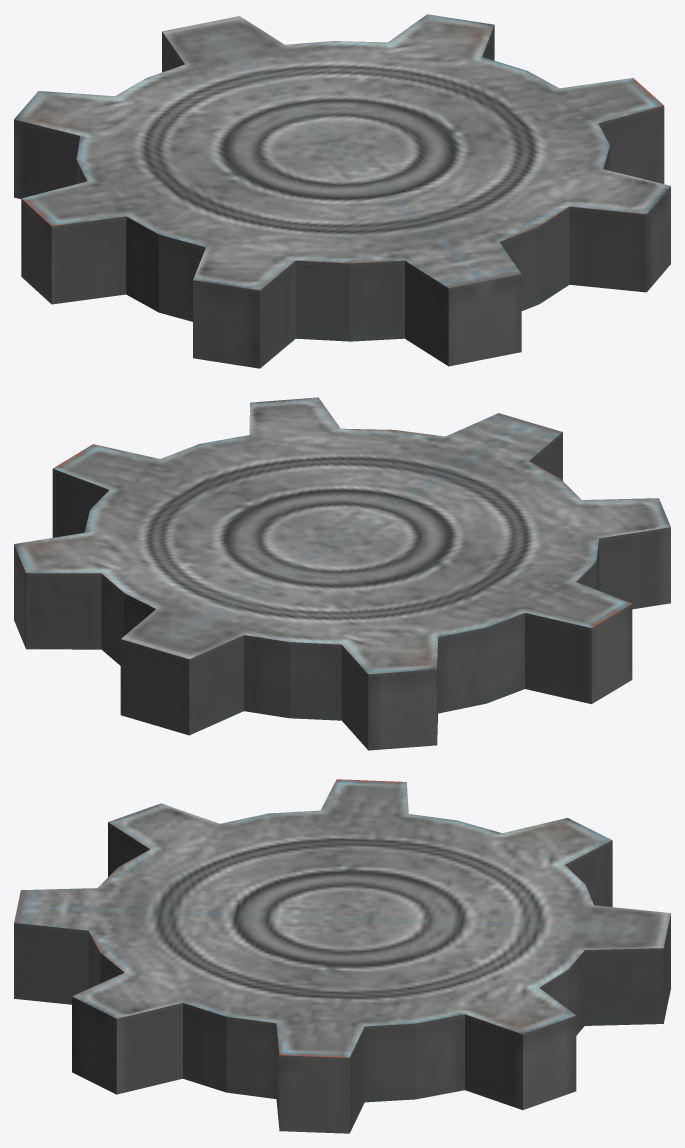
The model's file is FB_ShenLou_11.FBX.
3 renders of one model, top to bottom at view 1: azimuth 30°, elevation 25°; view 2: azimuth 150°, elevation 25°; view 3: azimuth 270°, elevation 25°, orthographic. The views are drawn at different scales.
Parts seen in each view (by area): view 1: Object06; view 2: Object06; view 3: Object06.
Part boxes in pixels (x1,y1,x2,y2): Object06: (14, 14, 670, 368); Object06: (14, 397, 670, 750); Object06: (14, 779, 670, 1133).
Bounding box in the file's own units: 3.7 × 0.47 × 3.69.
